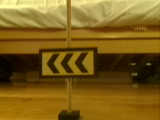left: (40, 50, 98, 77)
